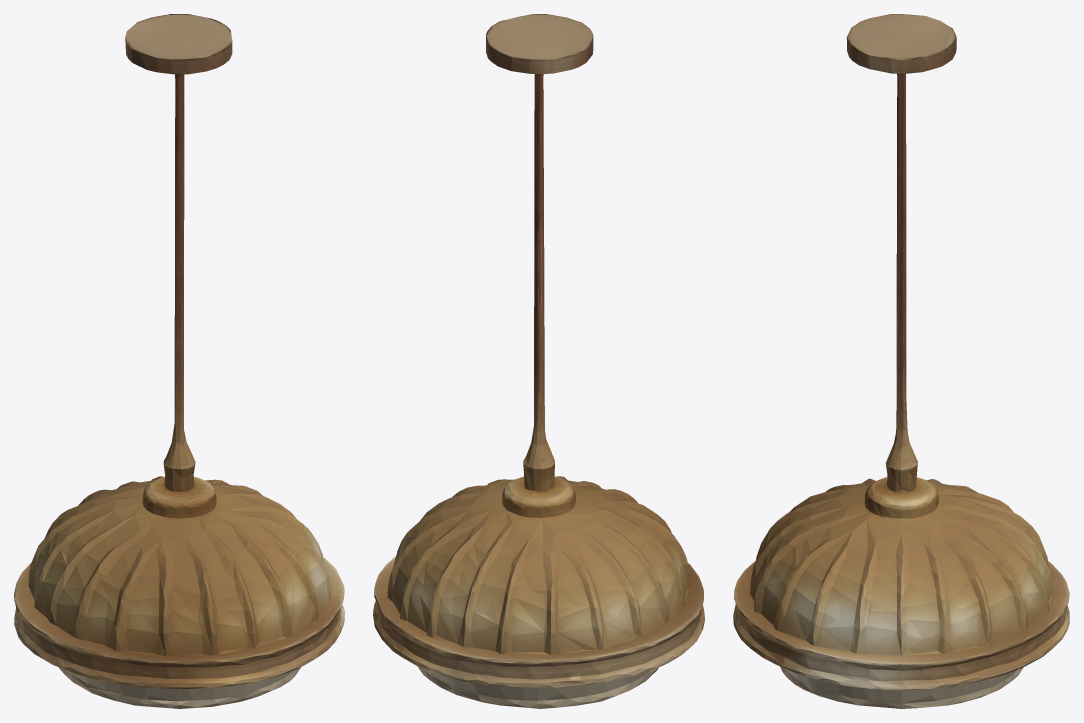
File: lamp_pendant_brass.glb
The picture shows the model from 3 angles, left to right: view 1: azimuth 30°, elevation 25°; view 2: azimuth 150°, elevation 25°; view 3: azimuth 270°, elevation 25°; orthographic projection.
Parts seen in each view (by area): view 1: geometry_0; view 2: geometry_0; view 3: geometry_0.
Part boxes in pixels (x1=…): geometry_0: x1=14, y1=14, x2=344, y2=708; geometry_0: x1=373, y1=14, x2=704, y2=708; geometry_0: x1=733, y1=14, x2=1069, y2=708.
Bounding box in the file's own units: 0.4889 × 1 × 0.4913.
Materials: 1 (1 with a texture image).
